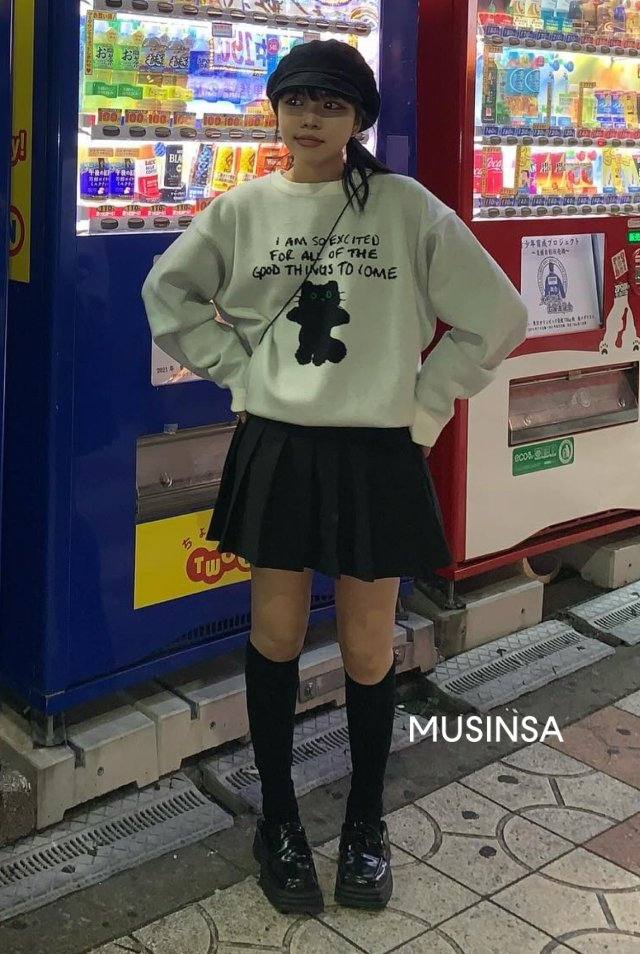Hat: (258, 44, 386, 123)
Shoes: (250, 807, 402, 914)
Skirt: (215, 412, 455, 582)
Top: (186, 167, 475, 427)
